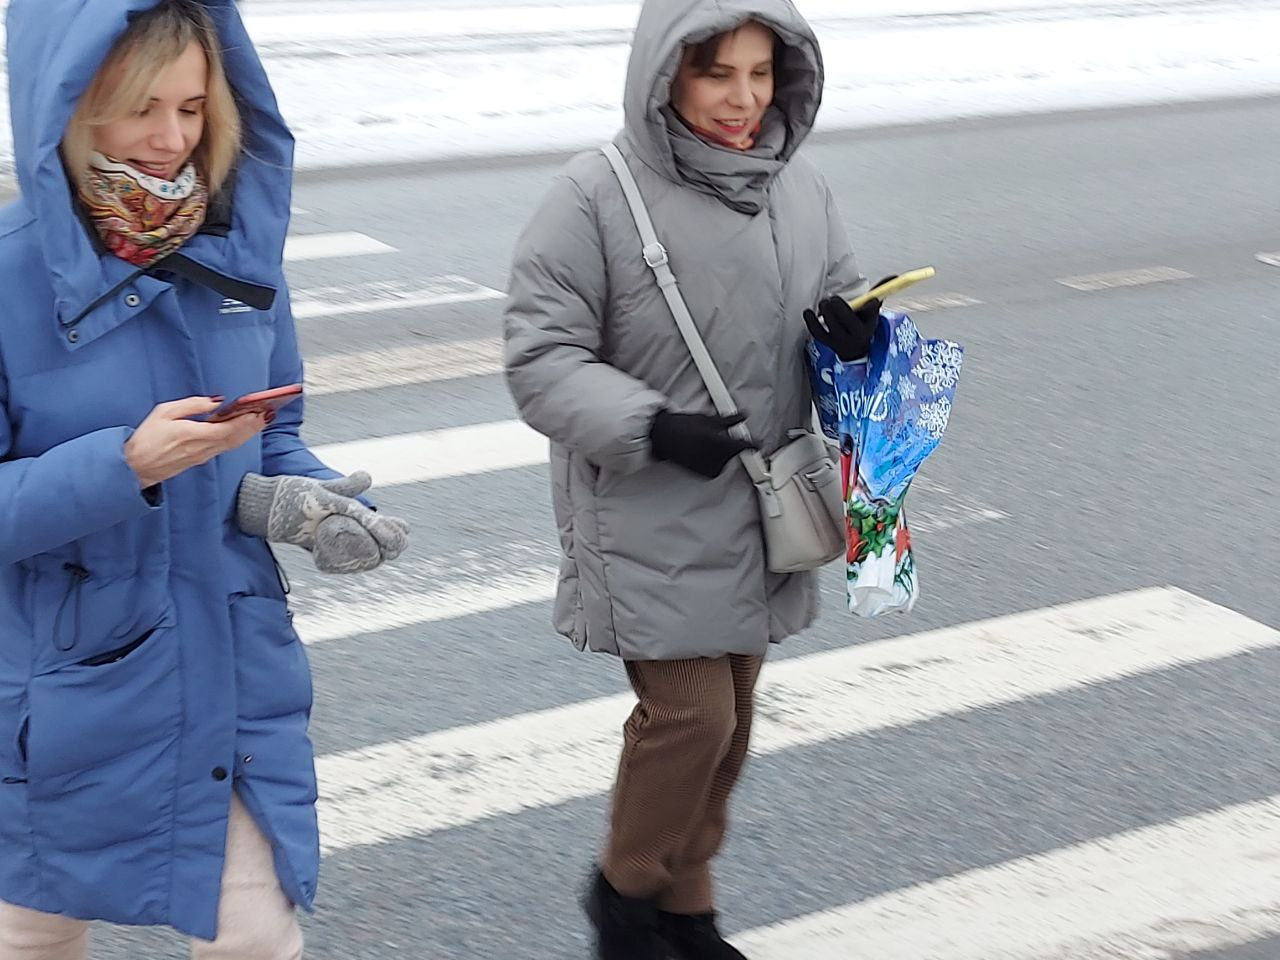sombie: (467, 2, 973, 960), (1, 1, 418, 960)
